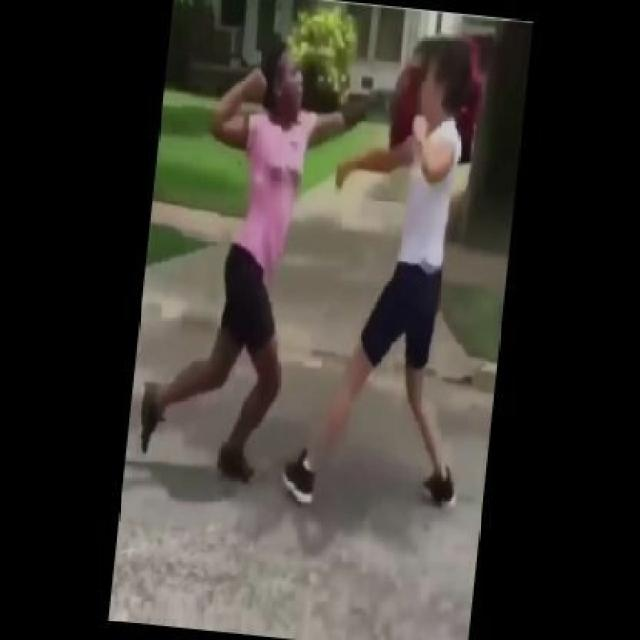fight: (138, 5, 487, 522)
